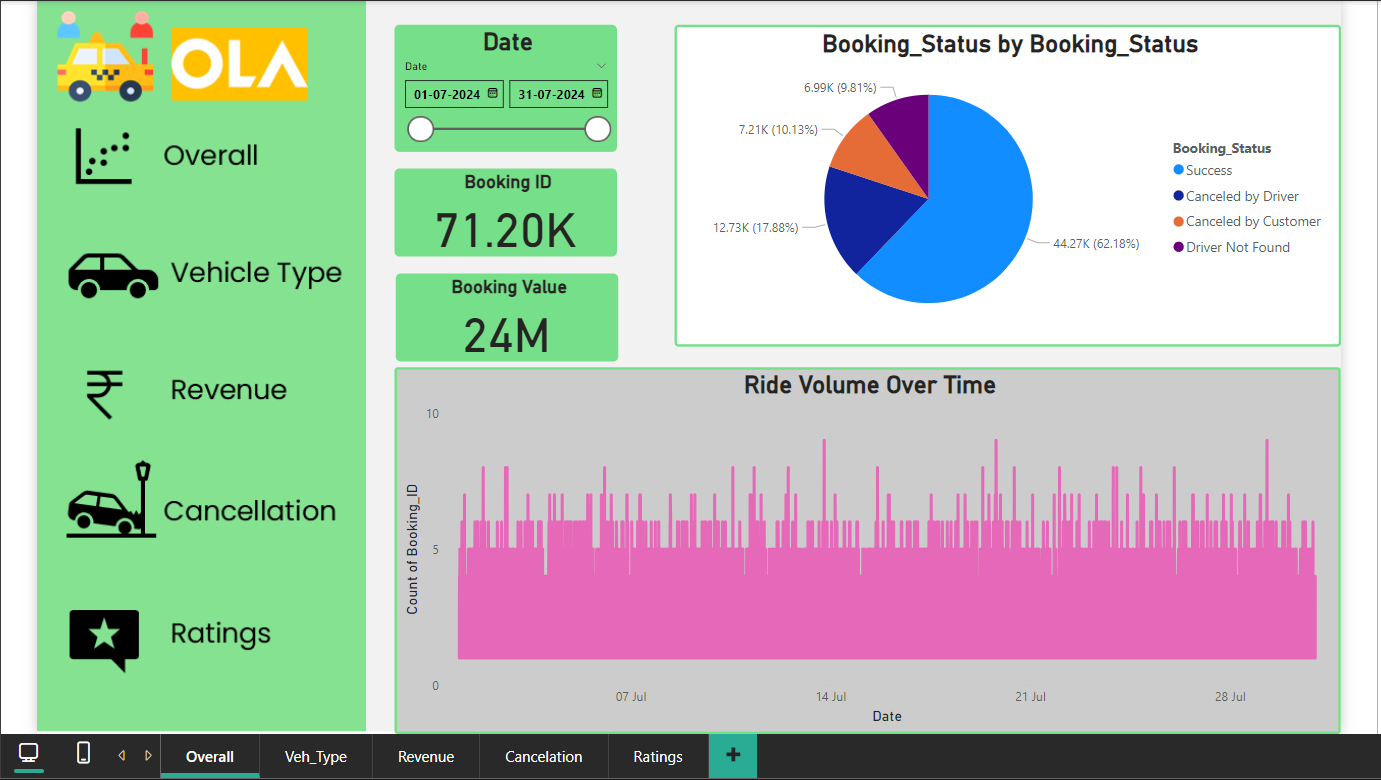

What the dashboard file says about the page in this screenshot:
{"tool":"powerbi","page":{"name":"Overall","canvas":[1280,720],"ordinal":0},"visuals":[{"type":"actionButton","box":[0,338.7,321.5,83.4],"z":0},{"type":"actionButton","box":[0,445.4,321.5,90.8],"z":1000},{"type":"actionButton","box":[0,579.1,321.5,83.4],"z":2000},{"type":"actionButton","box":[0,225.8,321.5,83.4],"z":3000},{"type":"lineChart","title":"Ride Volume Over Time","fields":{"Y":["CountNonNull(ola_booking.Booking_ID)"],"Category":["ola_booking.Date"]},"box":[351,360,929,360],"z":4000},{"type":"pieChart","title":"Booking_Status by Booking_Status","fields":{"Category":["ola_booking.Booking_Status"],"Y":["CountNonNull(ola_booking.Booking_Status)"]},"box":[625.7,23.3,654.5,315.6],"z":5000},{"type":"slicer","title":"Date","fields":{"Values":["ola_booking.Date"]},"box":[351.3,23.3,218.2,124.9],"z":6000},{"type":"card","title":"Booking ID","fields":{"Values":["CountNonNull(ola_booking.Booking_ID)"]},"box":[351.3,164.7,218.2,86.4],"z":7000},{"type":"card","title":"Booking Value","fields":{"Values":["Sum(ola_booking.Booking_Value)"]},"box":[352.7,267.6,218.2,86.4],"z":8000}]}

Visuals, with their boxes on the page's 1280x720 design canvas (x1, y1, x2, y2). These are canvas units, not pixel positions in the 1381x780 screenshot, which may show the page scaled, cropped or inside an application window:
actionButton: 0 339 322 422
actionButton: 0 445 322 536
actionButton: 0 579 322 662
actionButton: 0 226 322 309
"Ride Volume Over Time" lineChart: 351 360 1280 720
"Booking_Status by Booking_Status" pieChart: 626 23 1280 339
"Date" slicer: 351 23 570 148
"Booking ID" card: 351 165 570 251
"Booking Value" card: 353 268 571 354
